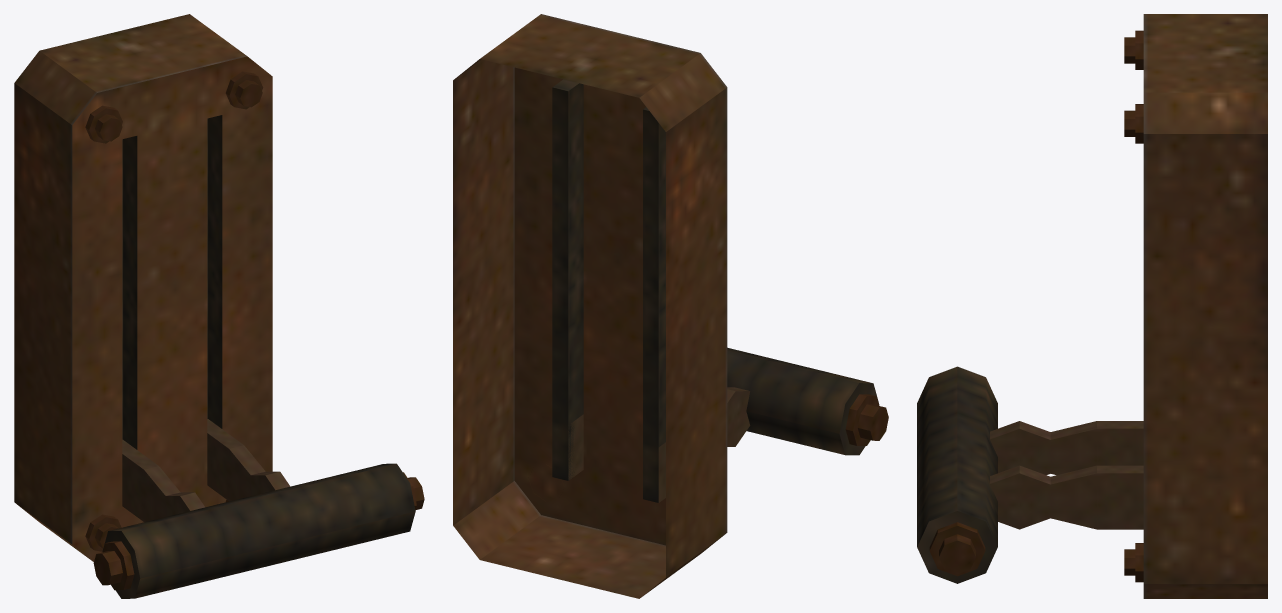
Rendered from lever_etx_3.obj.
3 renders of one model, left to right at view 1: azimuth 30°, elevation 25°; view 2: azimuth 150°, elevation 25°; view 3: azimuth 270°, elevation 25°, orthographic. The views are drawn at different scales.
Visible parts, largest first — view 1: lever_etx_3, lever_etx_3_child; view 2: lever_etx_3, lever_etx_3_child; view 3: lever_etx_3, lever_etx_3_child.
Part boxes in pixels (box(x1,y1,x2,y2)): lever_etx_3: box(14, 14, 272, 561); lever_etx_3_child: box(93, 419, 424, 598); lever_etx_3: box(453, 14, 727, 598); lever_etx_3_child: box(568, 347, 888, 502); lever_etx_3: box(1124, 14, 1267, 598); lever_etx_3_child: box(917, 366, 1143, 583).
Bounding box in the file's own units: 0.2254 × 0.324 × 0.2034.
